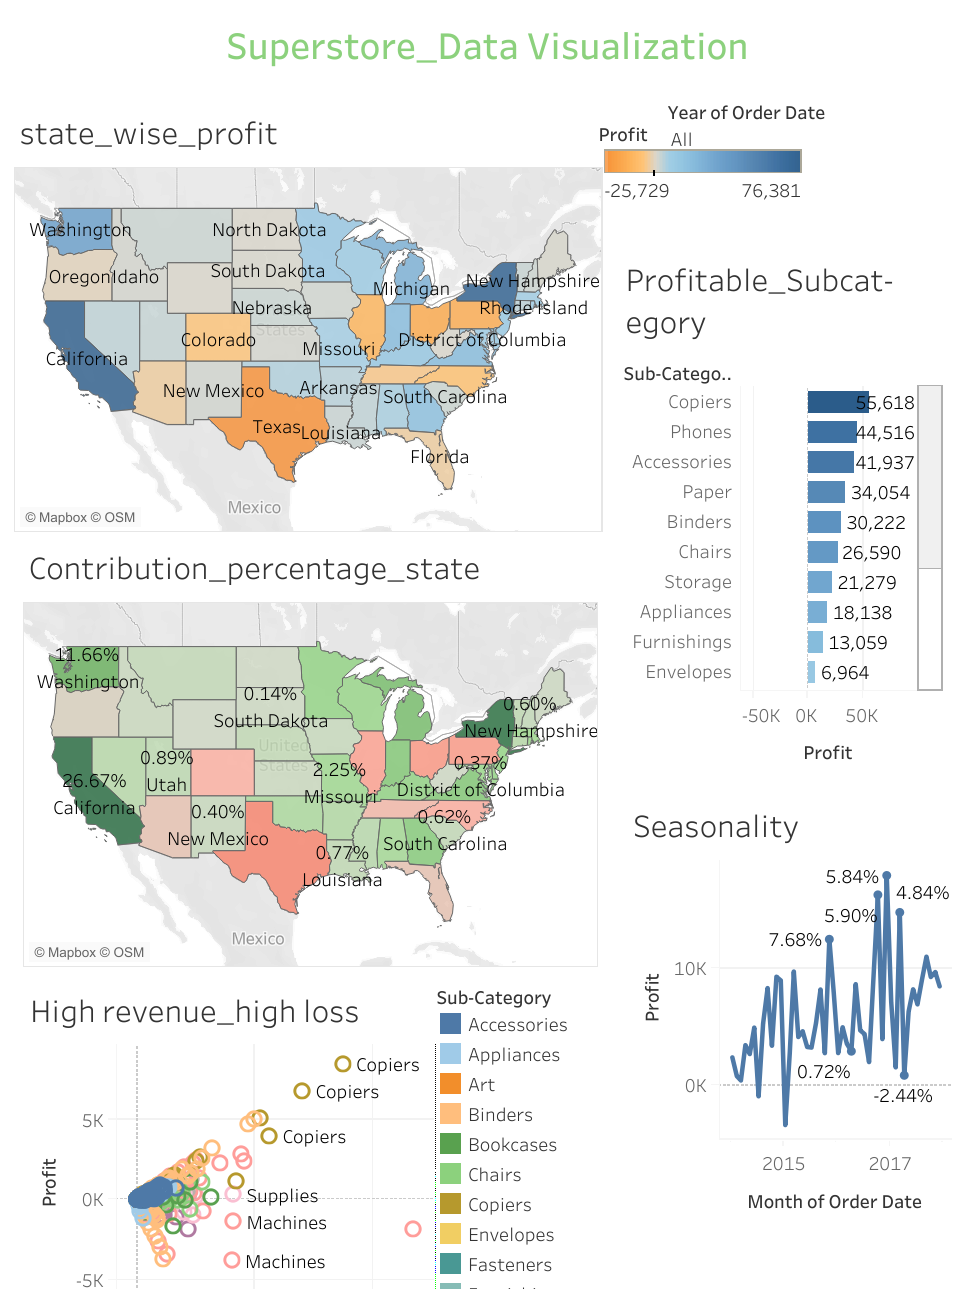

What the dashboard file says about the page in this screenshot:
{"tool":"tableau","page":{"name":"Dashboard 1","canvas":[650,860],"ordinal":0},"visuals":[{"type":"title","box":[8,8.5,634,61.8]},{"type":"filter","title":"High revenue_high loss","param":"[federated.1rvfket0fibp7b132yrr3072hir0].[yr:Order Date:ok]","box":[445,63.9,195,63.9]},{"type":"worksheet","title":"state_wise_profit","mark":"Automatic","box":[9,68.2,393,286.7]},{"type":"legend","title":"state_wise_profit","param":"[federated.1rvfket0fibp7b132yrr3072hir0].[sum:Profit:qk]","box":[399,75.7,140,106.6]},{"type":"worksheet","title":"Profitable_Subcategory","mark":"Automatic","rows":["Sub-Category"],"cols":["Profit"],"box":[413,166.2,216,350.6]},{"type":"worksheet","title":"Contribution_percentage_state","mark":"Automatic","box":[15,358.1,384,286.7]},{"type":"worksheet","title":"Seasonality","mark":"Automatic","rows":["Profit"],"cols":["Order Date"],"box":[418,529.6,216,286.7]}]}

Visuals, with their boxes in screenshot pixels (x1, y1, x2, y2), scaled from the page's 650x860 canvas onto the 974x1289 screenshot:
title: [12, 13, 962, 105]
"High revenue_high loss" filter: [667, 96, 959, 192]
"state_wise_profit" worksheet: [13, 102, 602, 532]
"state_wise_profit" legend: [598, 113, 808, 273]
"Profitable_Subcategory" worksheet: [619, 249, 943, 775]
"Contribution_percentage_state" worksheet: [22, 537, 598, 966]
"Seasonality" worksheet: [626, 794, 950, 1224]
